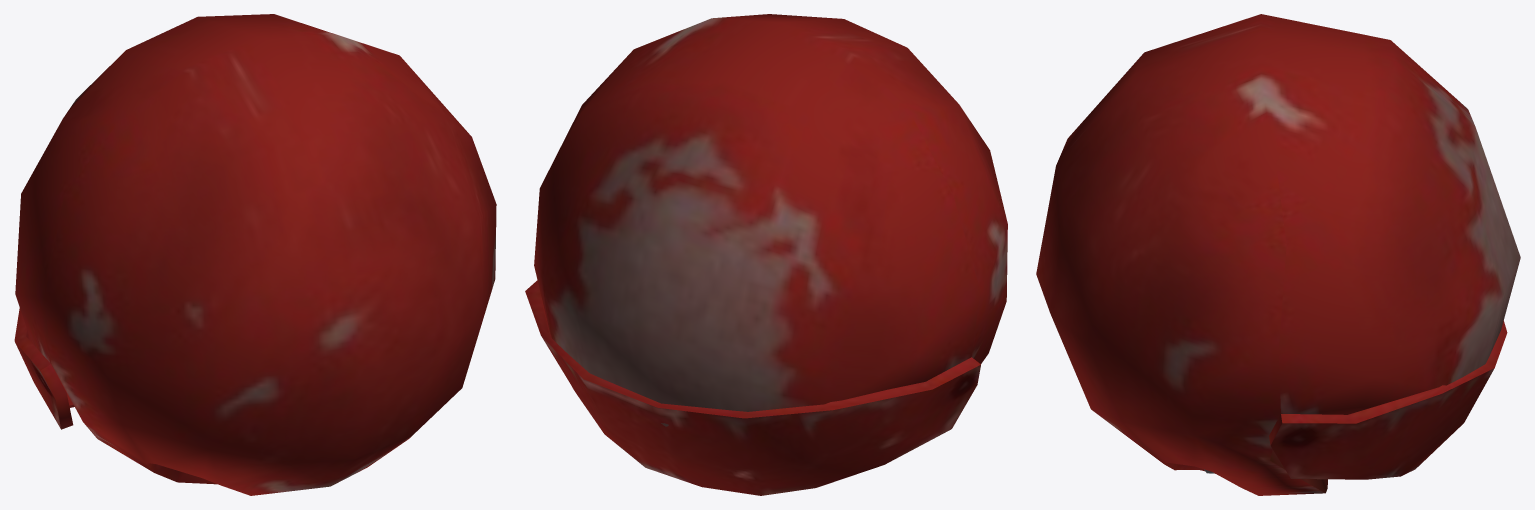
The model's file is murphy_04.obj.
3 views of the same model, side by side, from view 1: azimuth 30°, elevation 25°; view 2: azimuth 150°, elevation 25°; view 3: azimuth 270°, elevation 25° (orthographic).
Visible parts, largest first — view 1: Object01, Object02; view 2: Object01, Object02; view 3: Object01, Object02.
Part boxes in pixels (<box>): Object01: <box>15,14,496,495</box>; Object02: <box>14,308,74,429</box>; Object01: <box>534,14,1007,426</box>; Object02: <box>525,280,980,495</box>; Object01: <box>1036,14,1520,495</box>; Object02: <box>1269,320,1507,479</box>.
Size of the model in its own units: 20.08 by 19.62 by 19.83.
1 material, 1 textured.
